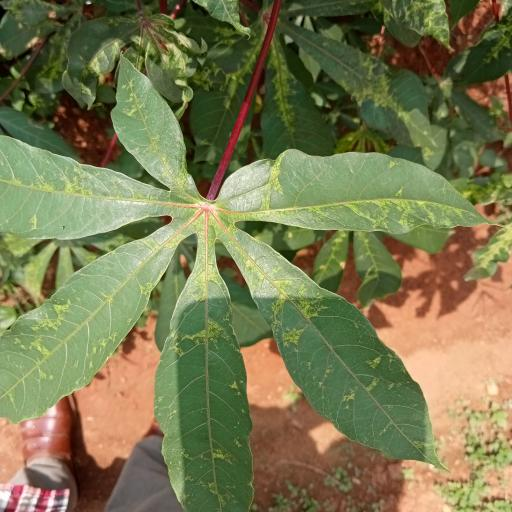Cassava_Healthy: (4, 56, 493, 512)
